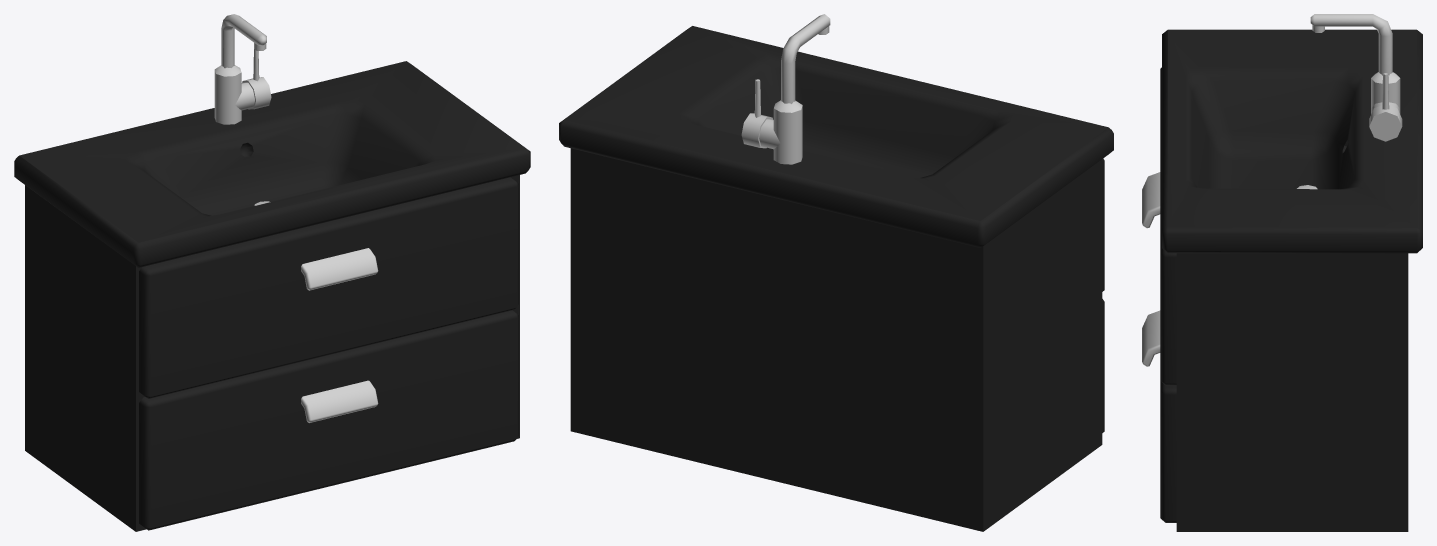
File: bathroom_015.fbx
3 renders of one model, left to right at view 1: azimuth 30°, elevation 25°; view 2: azimuth 150°, elevation 25°; view 3: azimuth 270°, elevation 25°, orthographic. The views are drawn at different scales.
Parts seen in each view (by area): view 1: bathroom_015; view 2: bathroom_015; view 3: bathroom_015.
Boxes of the visible parts, <box> form: bathroom_015: <box>14,14,530,531</box>; bathroom_015: <box>559,14,1113,531</box>; bathroom_015: <box>1142,14,1422,531</box>.
Bounding box in the file's own units: 110 × 64.43 × 106.
